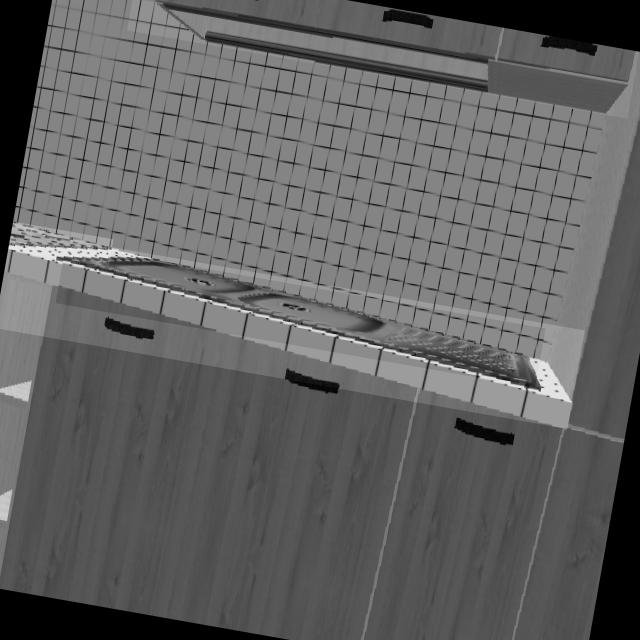cabinet: (0, 143, 640, 640), (154, 0, 638, 114)
countertop: (3, 244, 570, 427)
sink: (63, 252, 538, 385)
stove: (8, 222, 110, 256)
